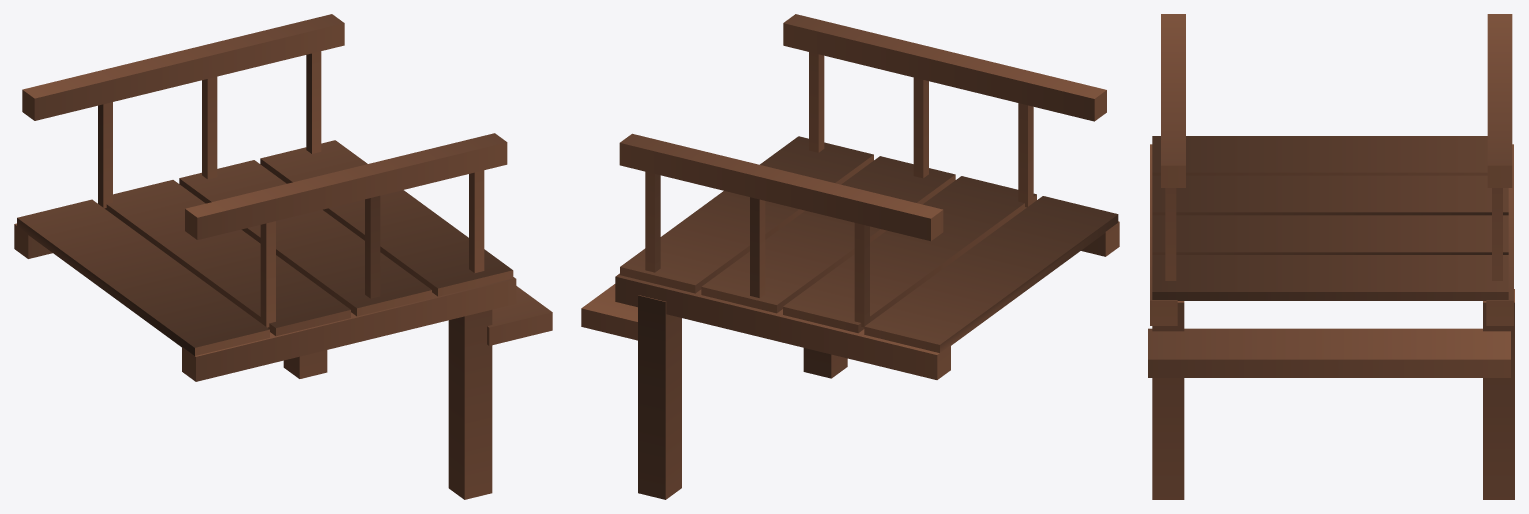
Rendered from BridgeStart.fbx.
The picture shows the model from 3 angles, left to right: view 1: azimuth 30°, elevation 25°; view 2: azimuth 150°, elevation 25°; view 3: azimuth 270°, elevation 25°; orthographic projection.
Parts seen in each view (by area): view 1: BridgeStart_LOD0; view 2: BridgeStart_LOD0; view 3: BridgeStart_LOD0.
Boxes of the visible parts, <box> form: BridgeStart_LOD0: <box>14,14,552,499</box>; BridgeStart_LOD0: <box>581,14,1119,499</box>; BridgeStart_LOD0: <box>1148,14,1514,499</box>.
Size of what is drawn, in the model's own units: 216 by 199 by 192.
